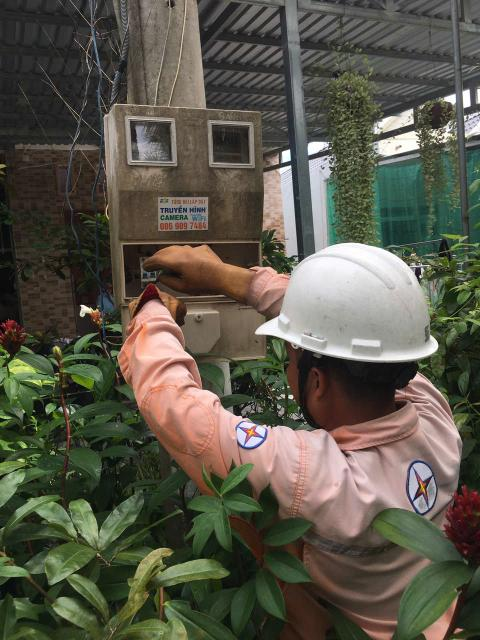gloves: (140, 238, 272, 308), (120, 273, 187, 332)
helmet: (262, 248, 440, 367)
